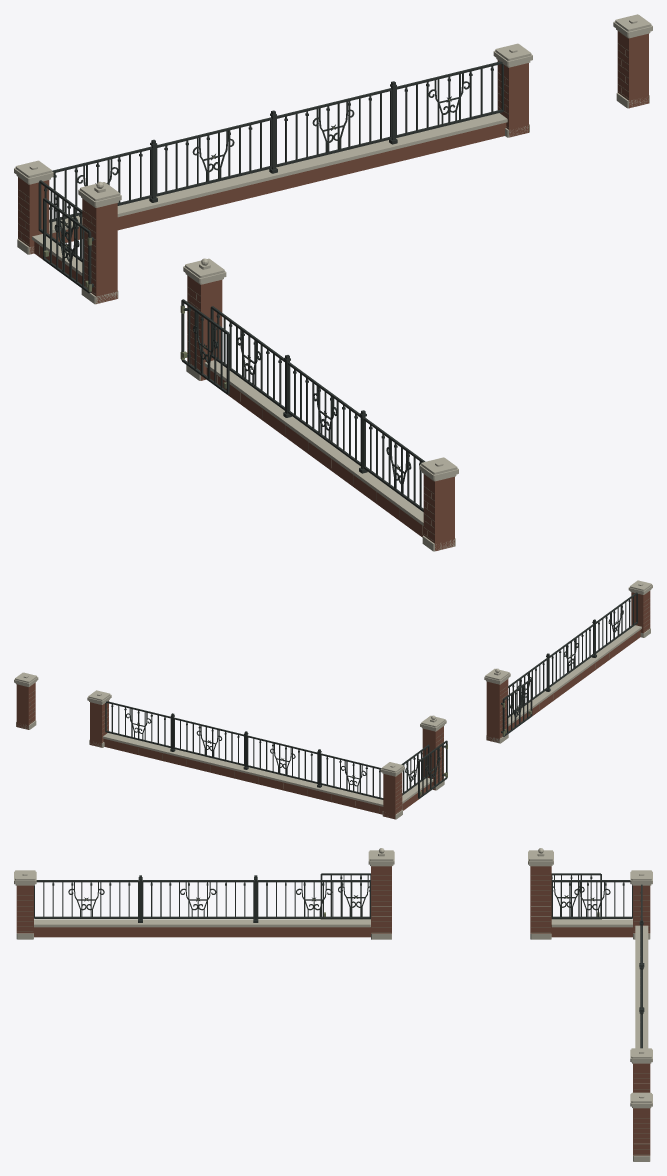
File: yard-jardins-boundary.glb
The picture shows the model from 3 angles, top to bottom: view 1: azimuth 30°, elevation 25°; view 2: azimuth 150°, elevation 25°; view 3: azimuth 270°, elevation 25°; orthographic projection. The views are drawn at different scales.
Visible parts, largest first — view 1: arrival_civic_boundary; view 2: arrival_civic_boundary; view 3: arrival_civic_boundary.
Part boxes in pixels (x1=…): arrival_civic_boundary: x1=14, y1=14, x2=652, y2=551; arrival_civic_boundary: x1=14, y1=580, x2=652, y2=819; arrival_civic_boundary: x1=14, y1=848, x2=652, y2=1161.
Size of the model in its own units: 18.39 by 3.19 by 21.25.
